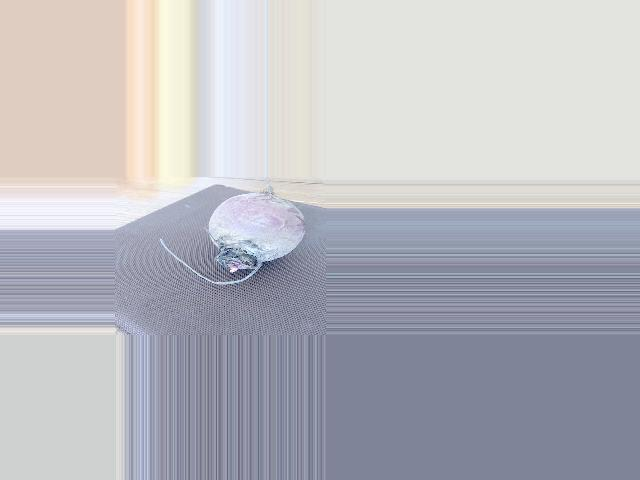beet: (159, 176, 306, 285)
